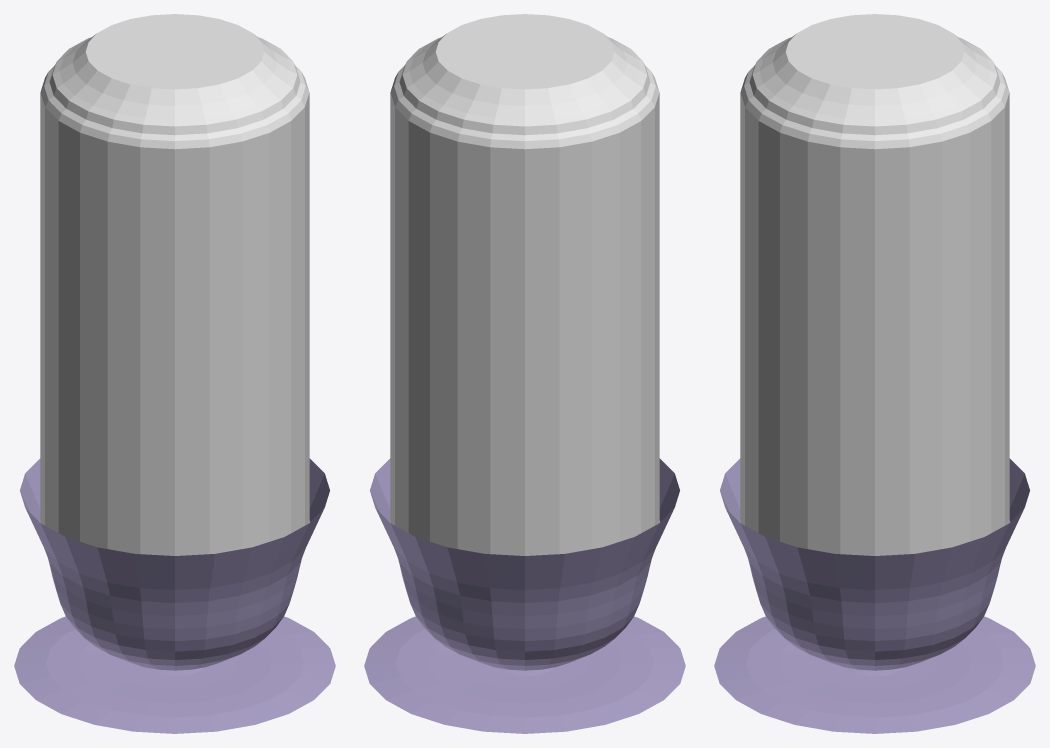
The model's file is CamKonteyner.fbx.
3 views of the same model, side by side, from view 1: azimuth 30°, elevation 25°; view 2: azimuth 150°, elevation 25°; view 3: azimuth 270°, elevation 25° (orthographic).
Parts seen in each view (by area): view 1: Cylinder; view 2: Cylinder; view 3: Cylinder.
Boxes of the visible parts, box(x1,y1,x2,y2) form: Cylinder: box(14, 14, 335, 733); Cylinder: box(364, 14, 685, 733); Cylinder: box(714, 14, 1035, 733).
Bounding box in the file's own units: 142 × 300 × 142.
